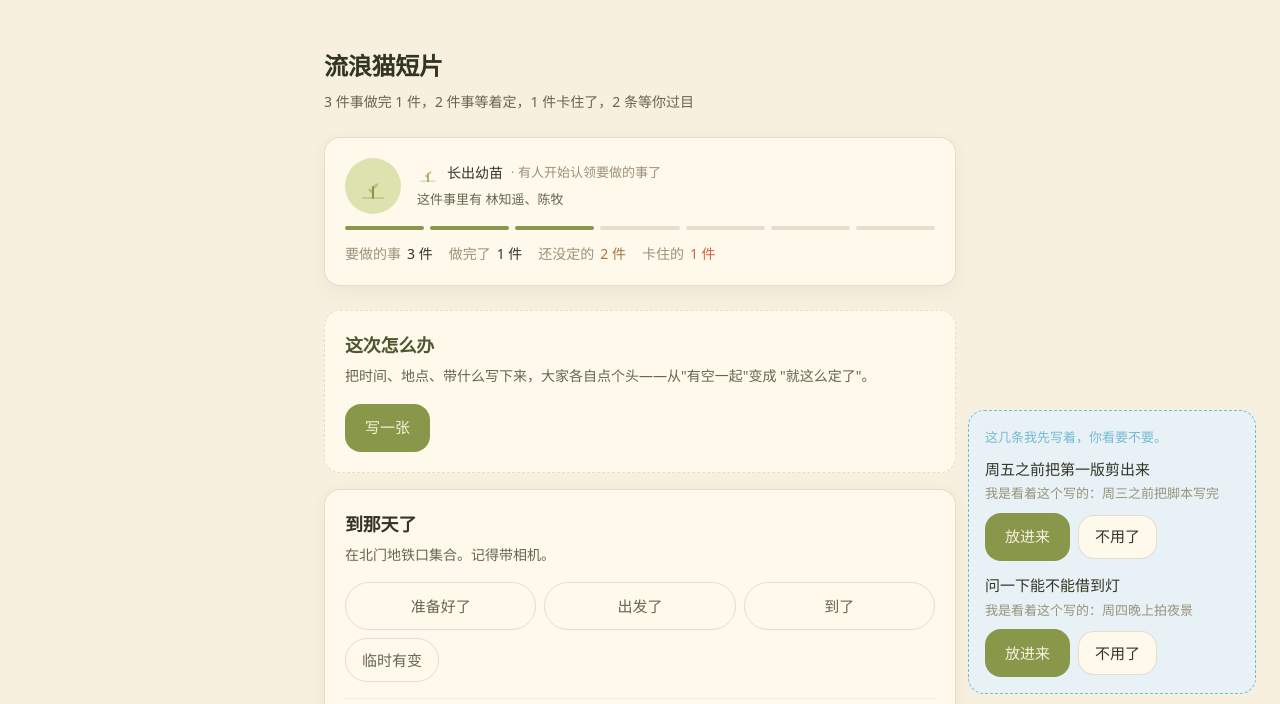
Test: 到那天了 › 「临时有变」要能说一句怎么了
The width and height of the screenshot is (1280, 704).
Step 1. Click the button "临时有变" → coordinates (392, 660), box [345,638,439,682]
(page scrolled)
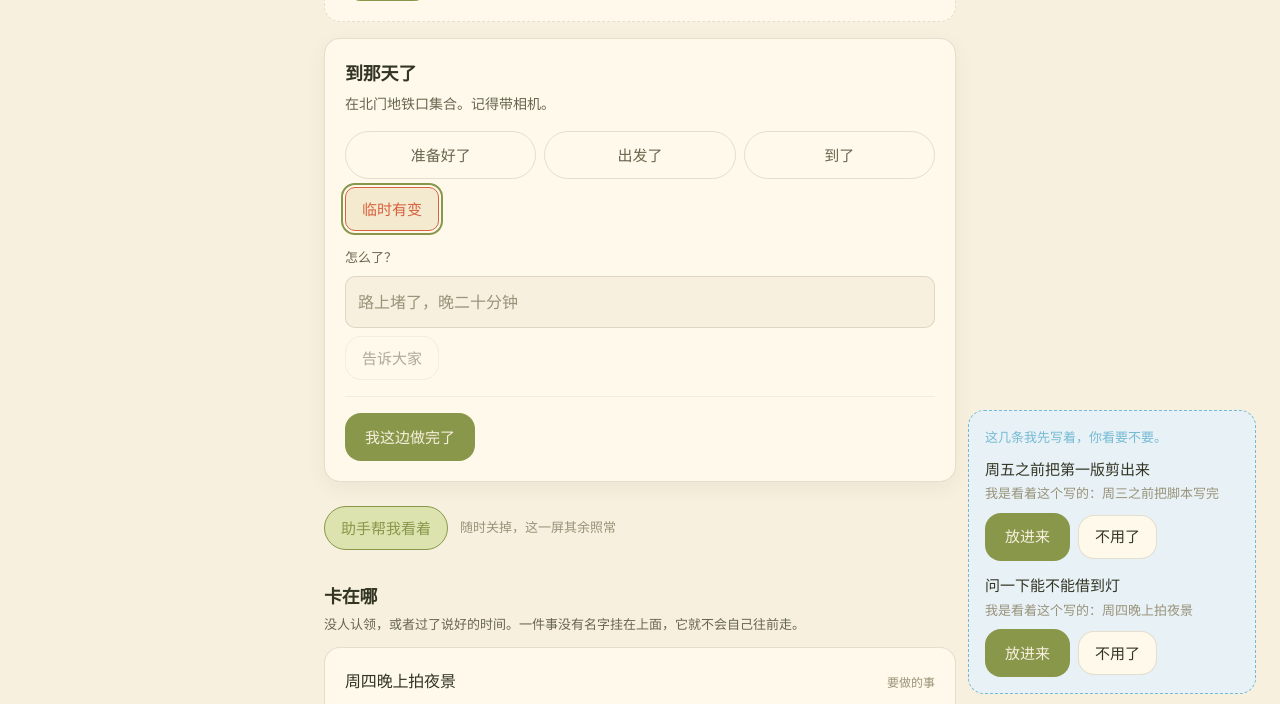
Expected: the field labelled "怎么了？" is shown, [345,276,935,328]
Expected: the button "告诉大家" is disabled, [345,336,439,380]
